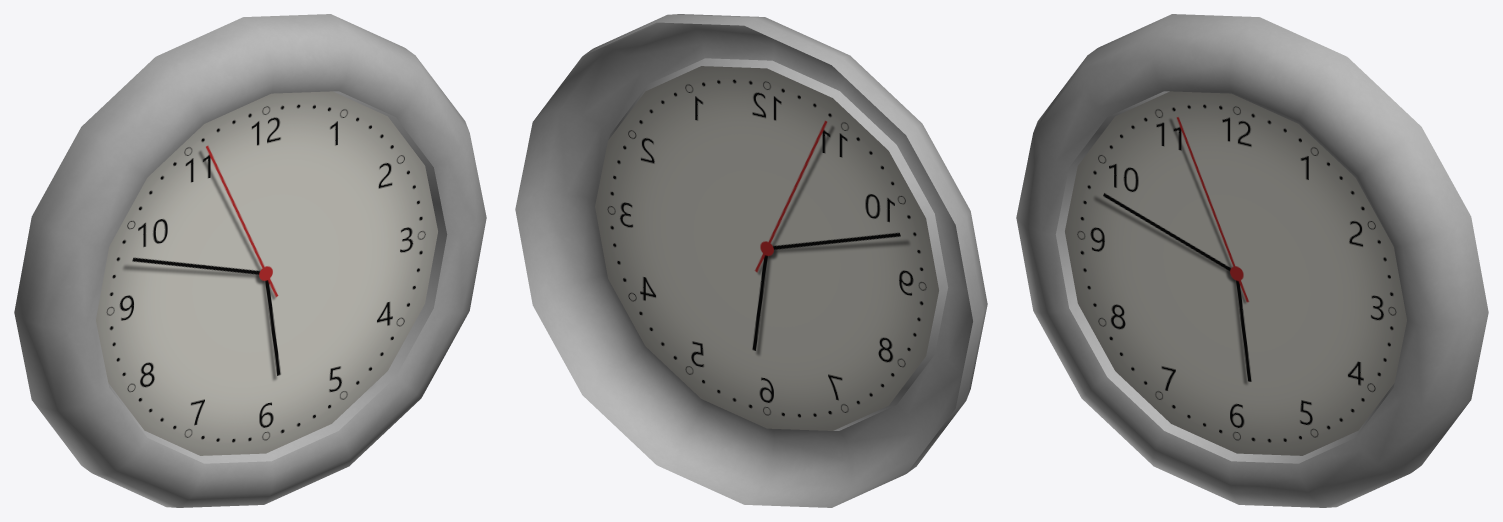
File: wall_clock.FBX
3 views of the same model, side by side, from view 1: azimuth 30°, elevation 25°; view 2: azimuth 150°, elevation 25°; view 3: azimuth 330°, elevation 25° (orthographic).
Visible parts, largest first — view 1: clock; view 2: clock; view 3: clock.
Boxes of the visible parts, x1=… form: clock: x1=14, y1=14, x2=486, y2=507; clock: x1=515, y1=14, x2=987, y2=507; clock: x1=1016, y1=14, x2=1488, y2=507.
Bounding box in the file's own units: 26 × 26 × 2.99.
1 material, 1 textured.
